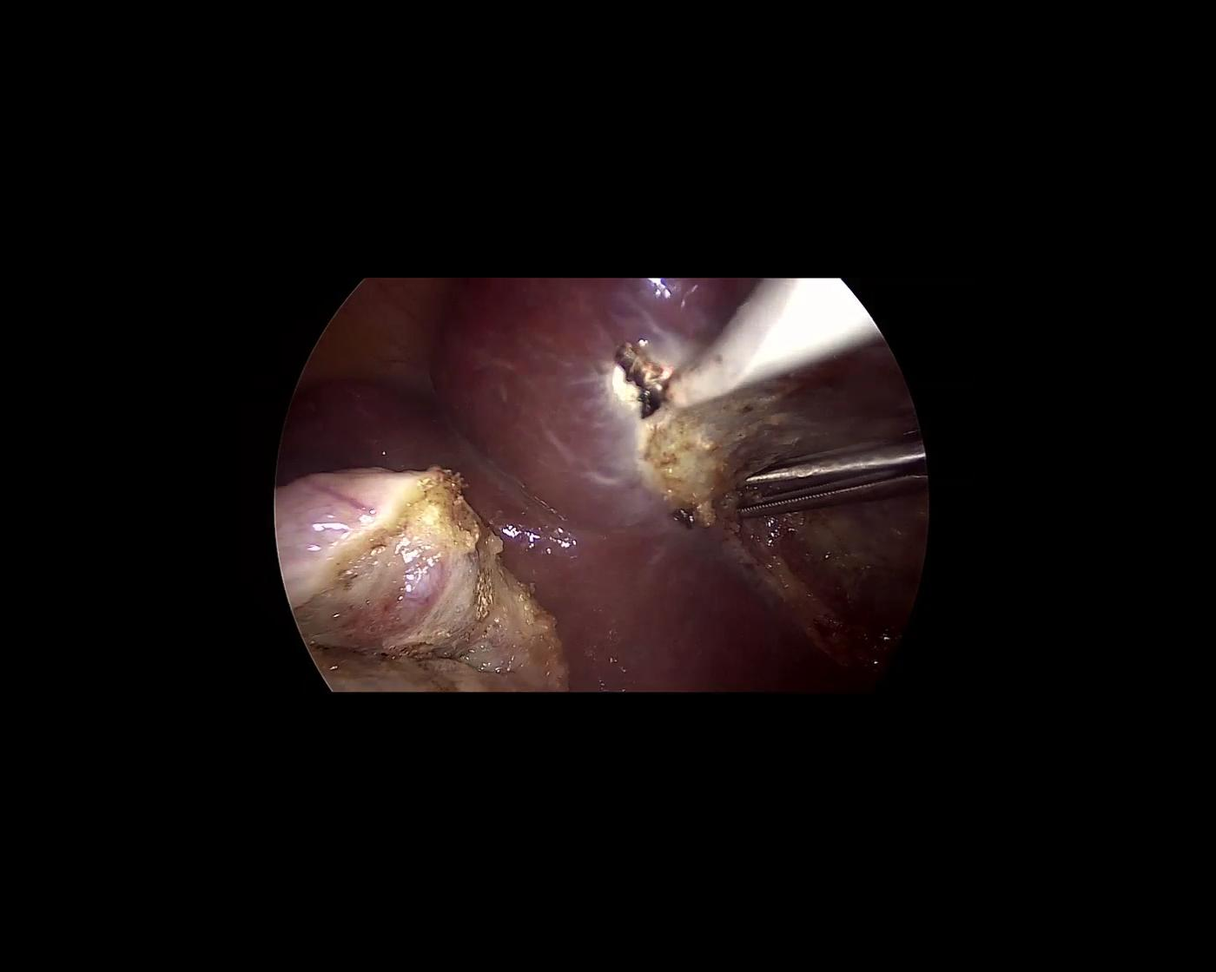Cautery: (608, 247, 882, 429)
Forceps: (732, 430, 931, 519)
Gallbladder: (269, 469, 573, 694)
Liver: (274, 277, 856, 694)
